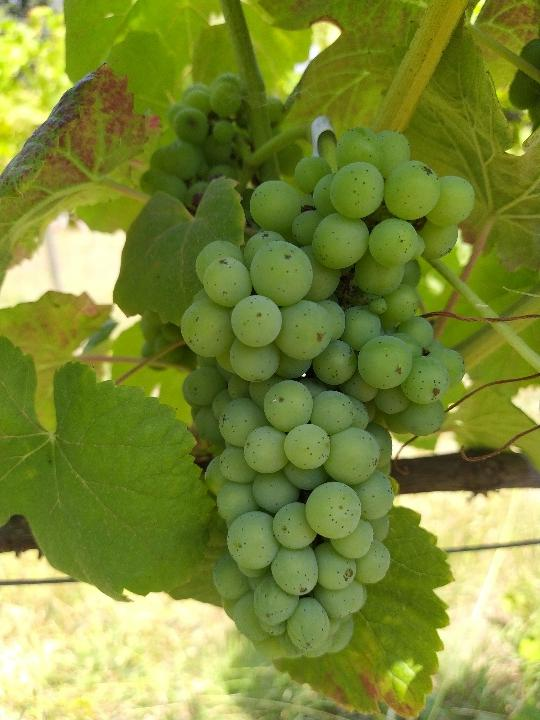grape: (172, 119, 473, 662)
